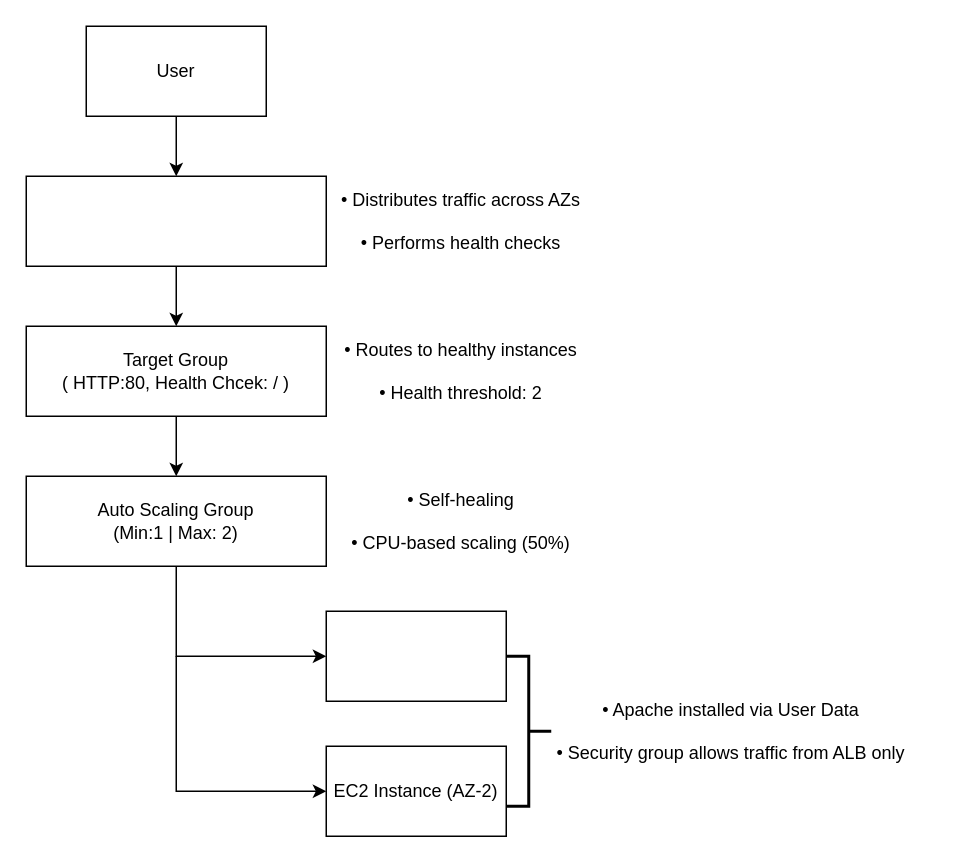
Image size: 953x863. Some labels were removed from this diagram. The centre of each missing label's shape, as x and y in pixels:
"Application Load Balancer (Internet-Facing)" goes at pixel 175 220.
"EC2 Instance (AZ-1)" goes at pixel 415 655.
